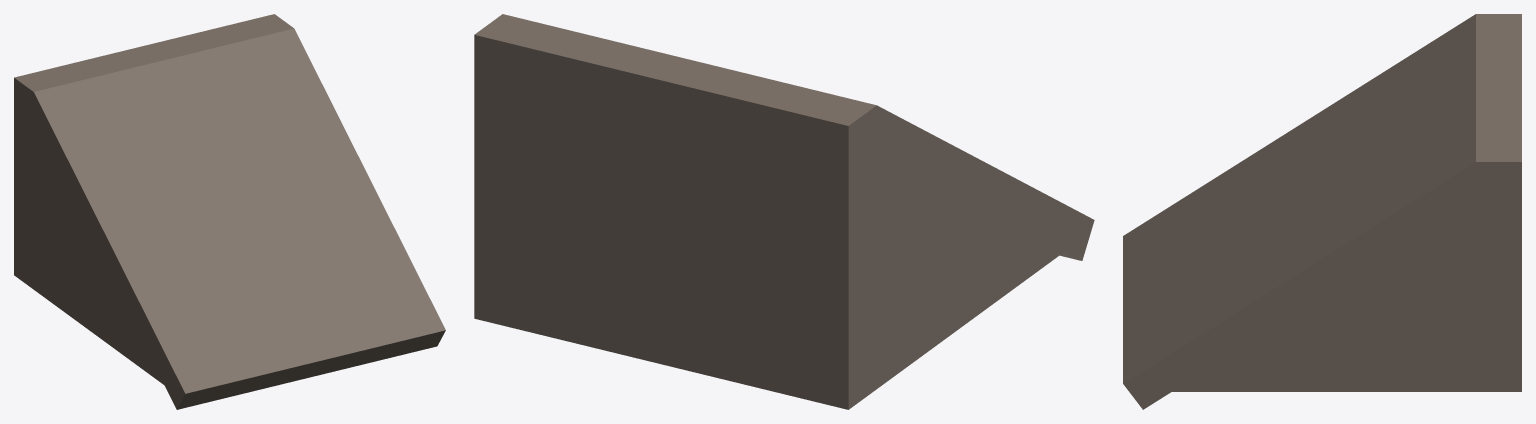
Rendered from roof-slanted.obj.
3 views of the same model, side by side, from view 1: azimuth 30°, elevation 25°; view 2: azimuth 150°, elevation 25°; view 3: azimuth 270°, elevation 25° (orthographic). The views are drawn at different scales.
Size of the model in its own units: 1 by 0.782 by 1.14.
